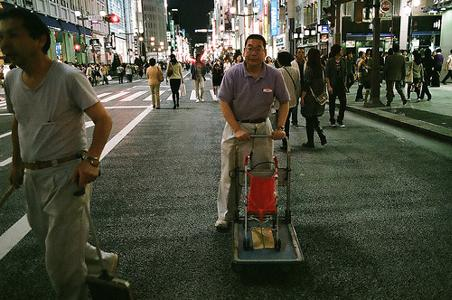person: (209, 31, 295, 233)
